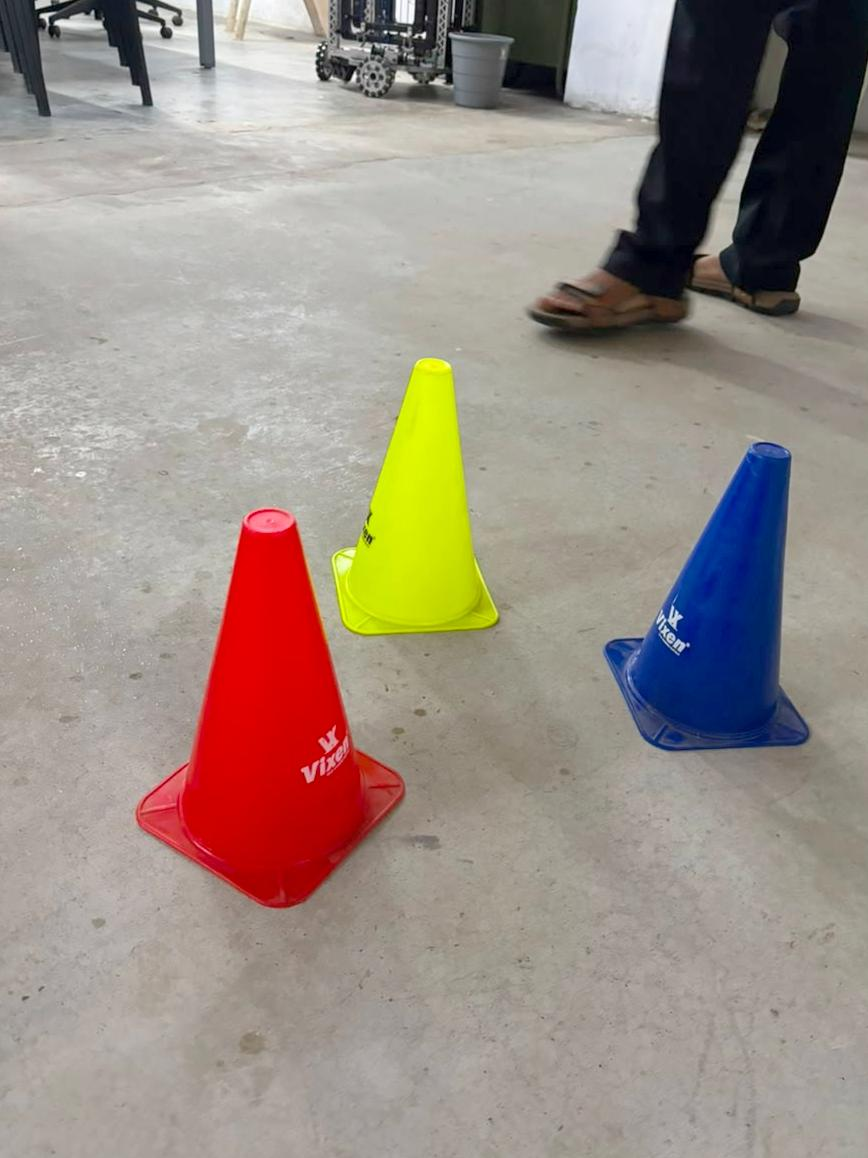0 cone: (137, 509, 403, 907), (604, 442, 808, 750), (332, 359, 498, 635)
